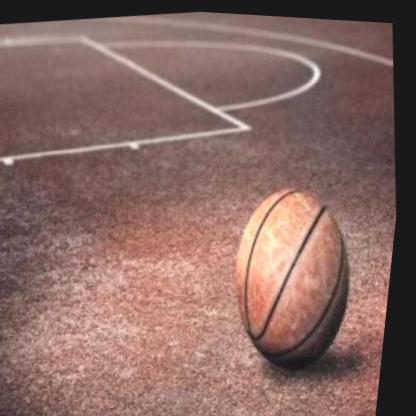basketball: (218, 168, 373, 381)
